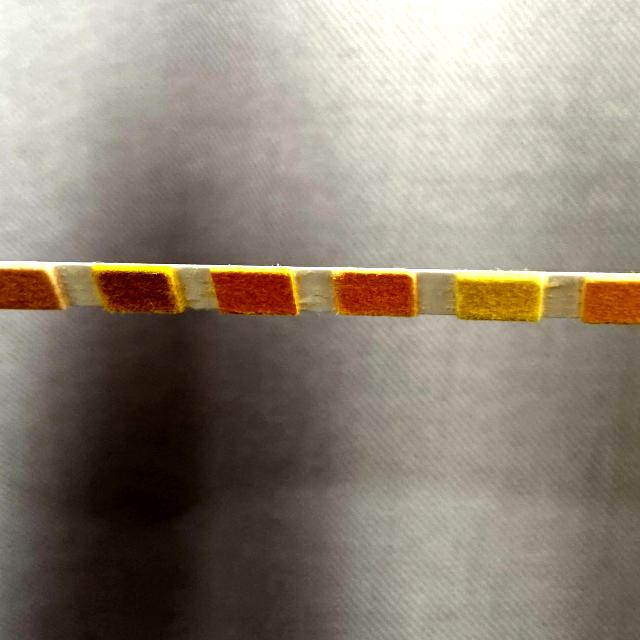Blood: (222, 273, 287, 311)
Ketone: (0, 270, 48, 308)
Protein: (464, 278, 532, 318)
SpGravity: (106, 273, 168, 311)
Urobilinogen: (593, 284, 640, 324)
pH: (342, 275, 410, 315)
